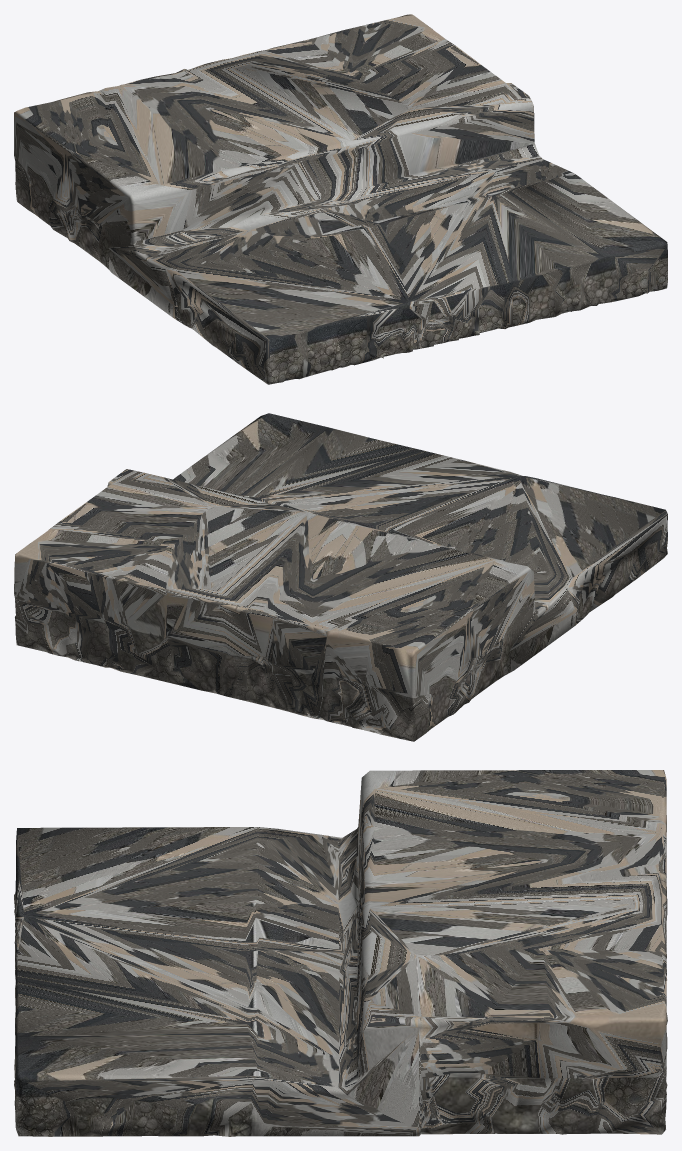
The model's file is kerb_lod1.glb.
3 renders of one model, top to bottom at view 1: azimuth 30°, elevation 25°; view 2: azimuth 150°, elevation 25°; view 3: azimuth 270°, elevation 25°, orthographic. The views are drawn at different scales.
Size of the model in its own units: 1.74 by 0.3773 by 1.9.
Materials: 1 (1 with a texture image).
